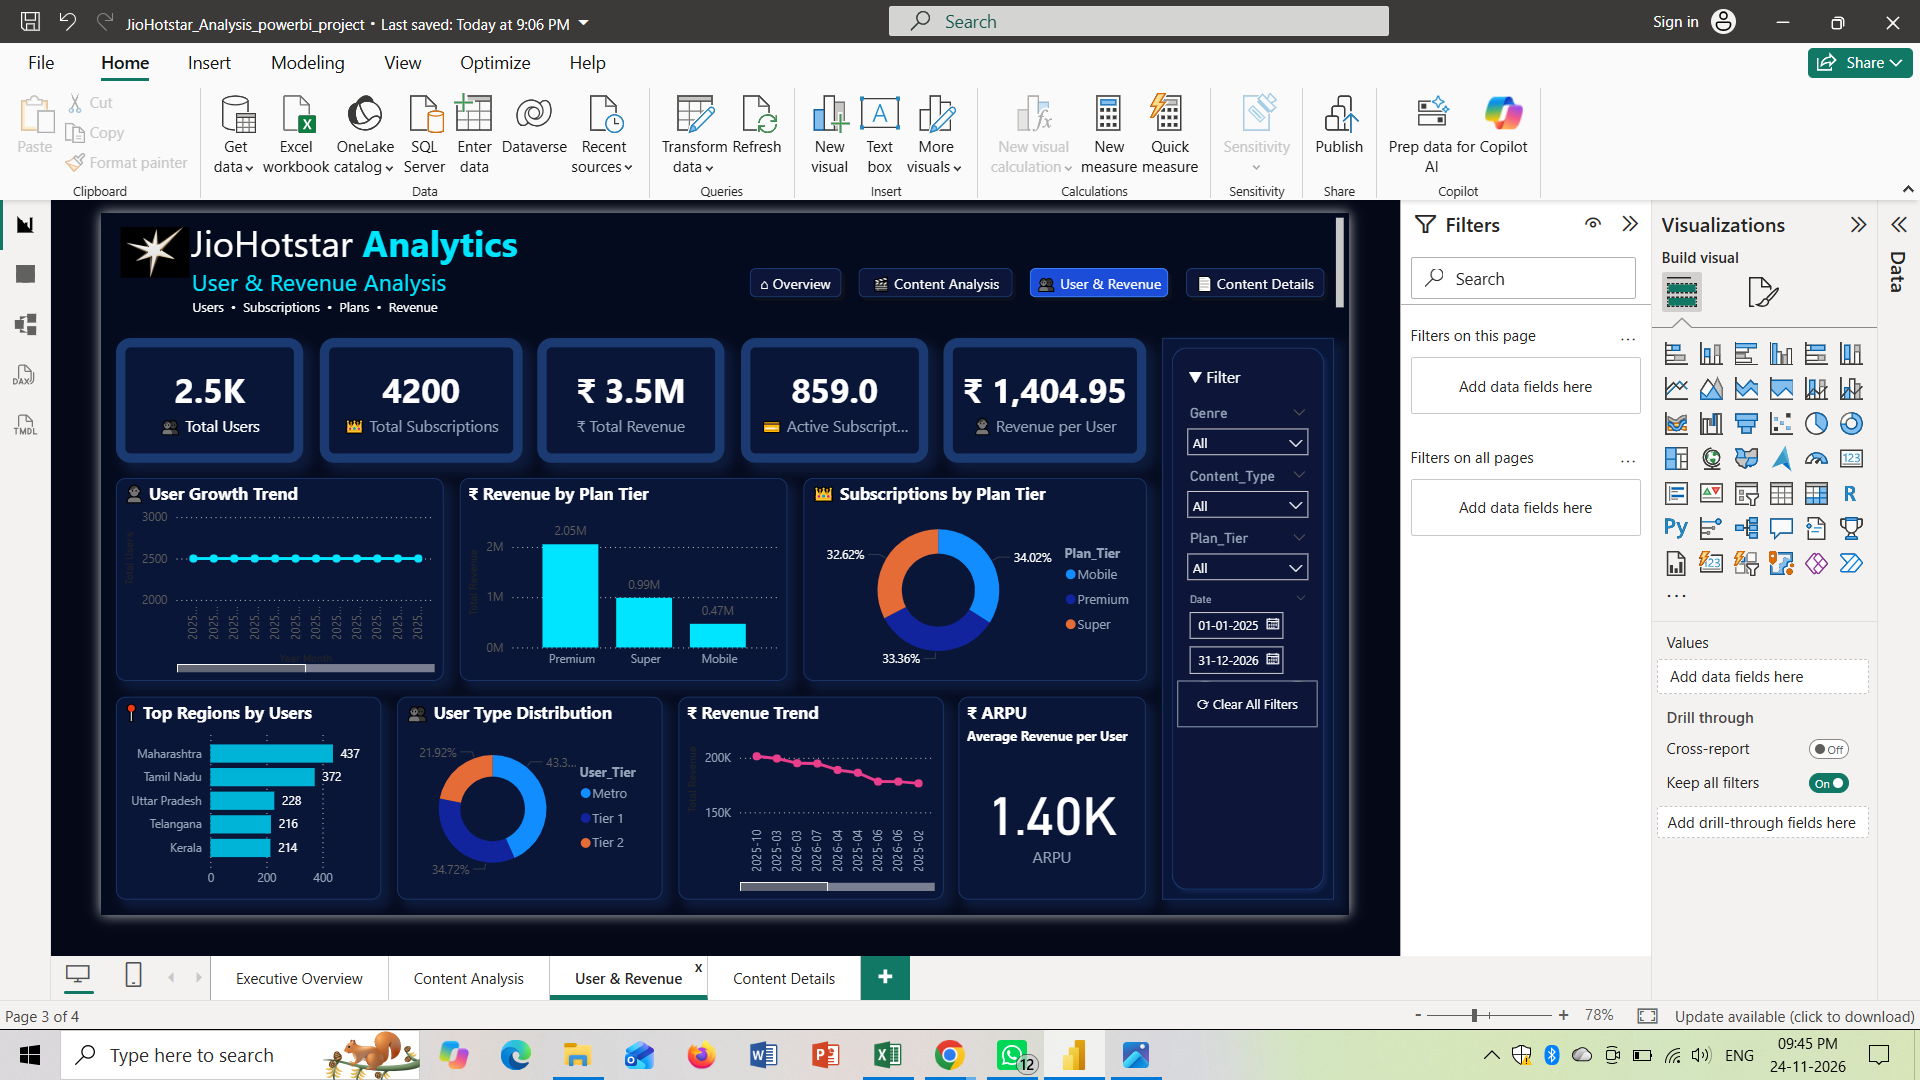

What the dashboard file says about the page in this screenshot:
{"tool":"powerbi","page":{"name":"User & Revenue","canvas":[1280,720],"ordinal":2},"visuals":[{"type":"shape","box":[1088,128,176,576],"z":0},{"type":"card","fields":{"Values":["Measures(2).Total Users"]},"box":[16,128,192,128],"z":1000},{"type":"card","fields":{"Values":["Measures(2).Total Subscriptions"]},"box":[224,128,208,128],"z":2000},{"type":"card","fields":{"Values":["Measures(2).Total Revenue"]},"box":[448,128,192,128],"z":3000},{"type":"card","fields":{"Values":["Measures(2).Active Subscriptions"]},"box":[656,128,192,128],"z":4000},{"type":"textbox","box":[16,0,1264,128],"z":5000},{"type":"image","box":[16,0,80,80],"z":6000},{"type":"textbox","box":[1104,144,144,48],"z":7000},{"type":"slicer","fields":{"Values":["Content.Genre"]},"box":[1104,192,144,64],"z":8000},{"type":"slicer","fields":{"Values":["Content.Content_Type"]},"box":[1104,256,144,80],"z":9000},{"type":"slicer","fields":{"Values":["Plans.Plan_Tier"]},"box":[1104,320,144,64],"z":10000},{"type":"slicer","fields":{"Values":["Date.Date"]},"box":[1104,384,144,96],"z":11000},{"type":"lineChart","title":"👤 User Growth Trend","fields":{"Category":["Date.Year Month"],"Y":["Measures(2).Total Users"]},"box":[16,272,336,208],"z":12000},{"type":"clusteredColumnChart","title":"₹ Revenue by Plan Tier","fields":{"Category":["Plans.Plan_Tier"],"Y":["Measures(2).Total Revenue"]},"box":[368,272,336,208],"z":13000},{"type":"actionButton","box":[656,48,112,48],"z":14000},{"type":"actionButton","box":[768,48,176,48],"z":15000},{"type":"actionButton","box":[944,48,160,48],"z":16000},{"type":"actionButton","box":[1104,48,160,48],"z":17000},{"type":"card","fields":{"Values":["Measures(2).ARPU"]},"box":[864,128,208,128],"z":18000},{"type":"donutChart","title":"👑 Subscriptions by Plan Tier","fields":{"Y":["Measures(2).Total Subscriptions"],"Category":["Plans.Plan_Tier"]},"box":[720,272,352,208],"z":19000},{"type":"clusteredBarChart","title":"📍 Top Regions by Users","fields":{"Category":["Users.State"],"Y":["Measures(2).Total Users"]},"box":[16,496,272,208],"z":20000},{"type":"donutChart","title":"👥 User Type Distribution","fields":{"Category":["Users.User_Tier"],"Y":["Measures(2).Total Users"]},"box":[304,496,272,208],"z":21000},{"type":"lineChart","title":"₹ Revenue Trend","fields":{"Category":["Date.Year Month"],"Y":["Measures(2).Total Revenue"]},"box":[592,496,272,208],"z":22000},{"type":"card","title":"₹ ARPU","fields":{"Values":["Measures(2).ARPU"]},"box":[880,496,192,208],"z":23000},{"type":"actionButton","title":"⟳ Clear All Filters","box":[1104,480,144,48],"z":24000}]}

Visuals, with their boxes on the page's 1280x720 design canvas (x1, y1, x2, y2). These are canvas units, not pixel positions in the 1920x1080 screenshot, which may show the page scaled, cropped or inside an application window:
shape: (left=1088, top=128, right=1264, bottom=704)
card - Measures(2).Total Users: (left=16, top=128, right=208, bottom=256)
card - Measures(2).Total Subscriptions: (left=224, top=128, right=432, bottom=256)
card - Measures(2).Total Revenue: (left=448, top=128, right=640, bottom=256)
card - Measures(2).Active Subscriptions: (left=656, top=128, right=848, bottom=256)
textbox: (left=16, top=0, right=1280, bottom=128)
image: (left=16, top=0, right=96, bottom=80)
textbox: (left=1104, top=144, right=1248, bottom=192)
slicer - Content.Genre: (left=1104, top=192, right=1248, bottom=256)
slicer - Content.Content_Type: (left=1104, top=256, right=1248, bottom=336)
slicer - Plans.Plan_Tier: (left=1104, top=320, right=1248, bottom=384)
slicer - Date.Date: (left=1104, top=384, right=1248, bottom=480)
"👤 User Growth Trend" lineChart: (left=16, top=272, right=352, bottom=480)
"₹ Revenue by Plan Tier" clusteredColumnChart: (left=368, top=272, right=704, bottom=480)
actionButton: (left=656, top=48, right=768, bottom=96)
actionButton: (left=768, top=48, right=944, bottom=96)
actionButton: (left=944, top=48, right=1104, bottom=96)
actionButton: (left=1104, top=48, right=1264, bottom=96)
card - Measures(2).ARPU: (left=864, top=128, right=1072, bottom=256)
"👑 Subscriptions by Plan Tier" donutChart: (left=720, top=272, right=1072, bottom=480)
"📍 Top Regions by Users" clusteredBarChart: (left=16, top=496, right=288, bottom=704)
"👥 User Type Distribution" donutChart: (left=304, top=496, right=576, bottom=704)
"₹ Revenue Trend" lineChart: (left=592, top=496, right=864, bottom=704)
"₹ ARPU" card: (left=880, top=496, right=1072, bottom=704)
"⟳ Clear All Filters" actionButton: (left=1104, top=480, right=1248, bottom=528)
